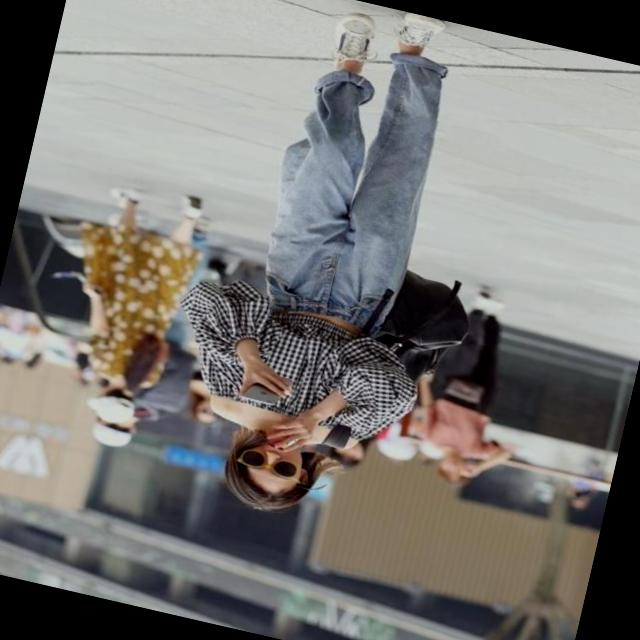smoke: (274, 428, 304, 454)
